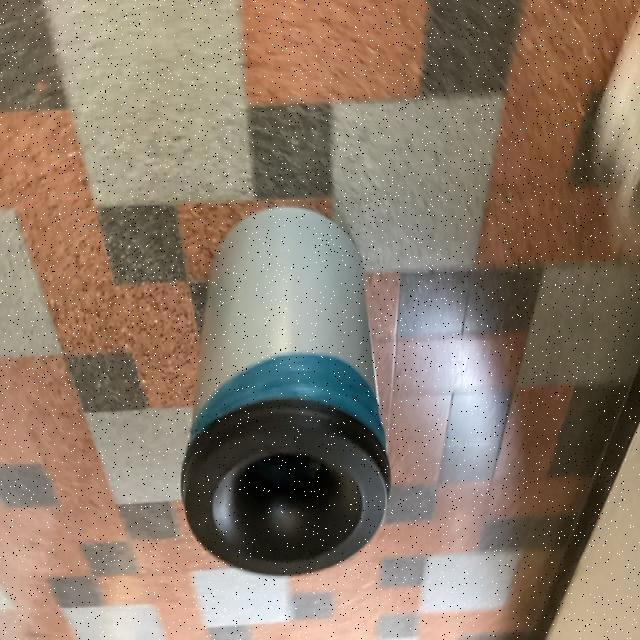garbage container: (173, 180, 402, 588)
